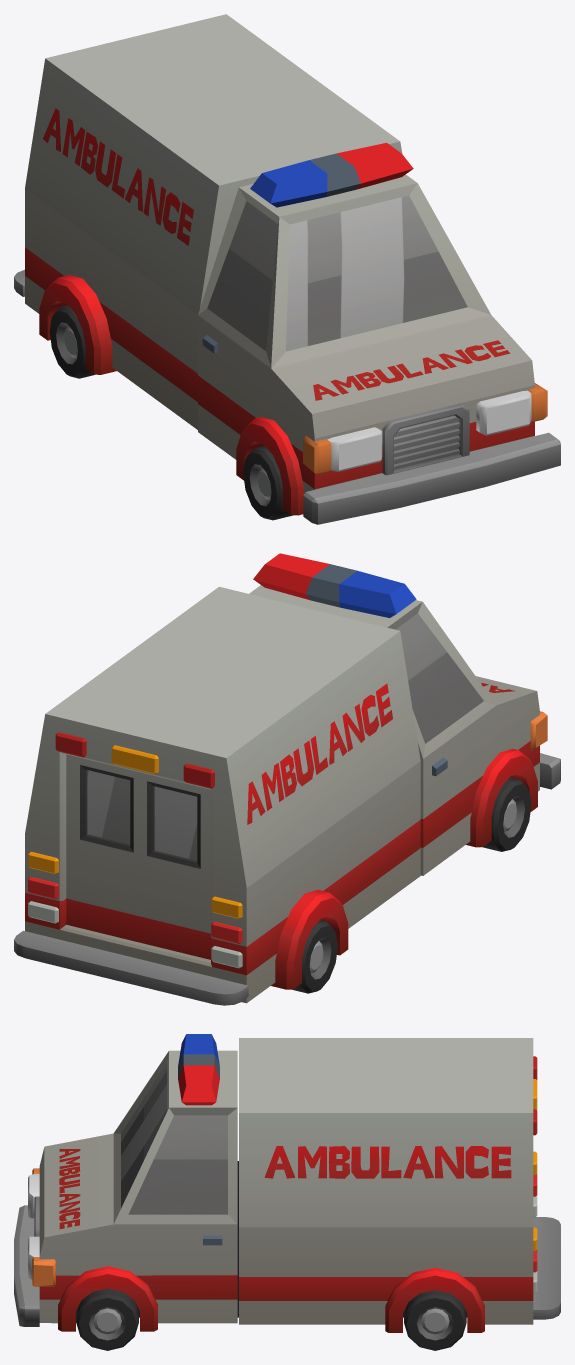
File: Ambulance.fbx
The picture shows the model from 3 angles, top to bottom: view 1: azimuth 30°, elevation 25°; view 2: azimuth 150°, elevation 25°; view 3: azimuth 270°, elevation 25°; orthographic projection. The views are drawn at different scales.
Visible parts, largest first — view 1: Ambulance, Wheel_Fr, Wheel_Br; view 2: Ambulance, Wheel_Fr, Wheel_Br; view 3: Ambulance, Wheel_Fl, Wheel_Bl.
Boxes of the visible parts, x1=… form: Ambulance: x1=14, y1=14, x2=560, y2=524; Wheel_Fr: x1=243, y1=446, x2=292, y2=520; Wheel_Br: x1=49, y1=305, x2=94, y2=378; Ambulance: x1=14, y1=553, x2=560, y2=1005; Wheel_Fr: x1=482, y1=777, x2=531, y2=851; Wheel_Br: x1=292, y1=920, x2=337, y2=993; Ambulance: x1=14, y1=1034, x2=560, y2=1332; Wheel_Fl: x1=76, y1=1288, x2=138, y2=1350; Wheel_Bl: x1=404, y1=1290, x2=466, y2=1350.
Size of the model in its own units: 119 by 129 by 264.
